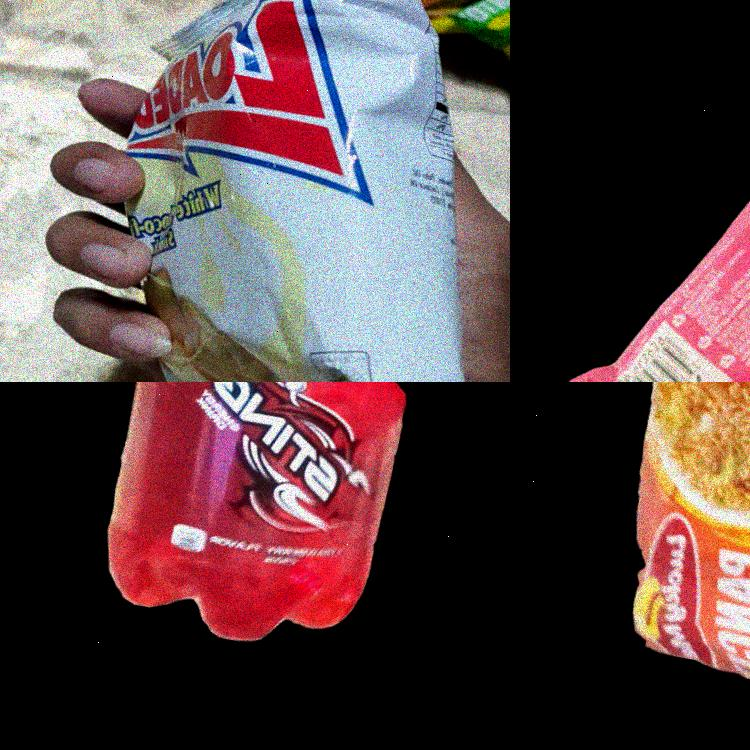loaded: (0, 0, 510, 382)
pancit canton sweet and spicy: (633, 382, 750, 679)
sting: (108, 382, 406, 641)
